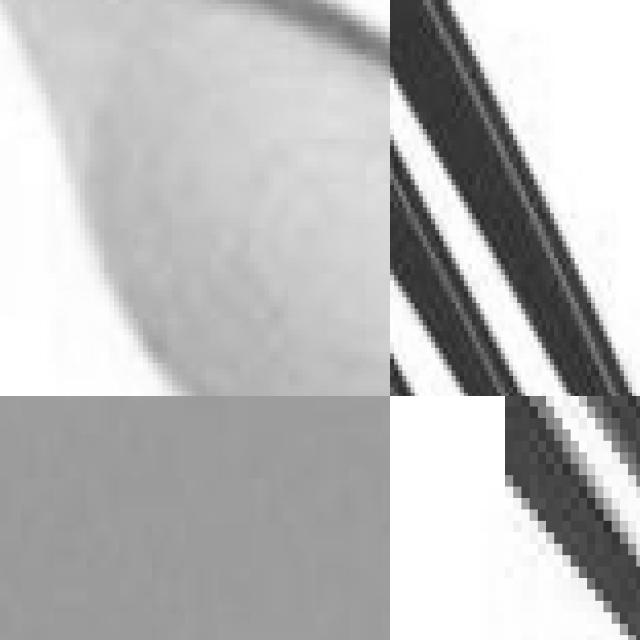forks: (390, 0, 640, 396), (505, 396, 640, 640)
spoons: (0, 0, 390, 396)
